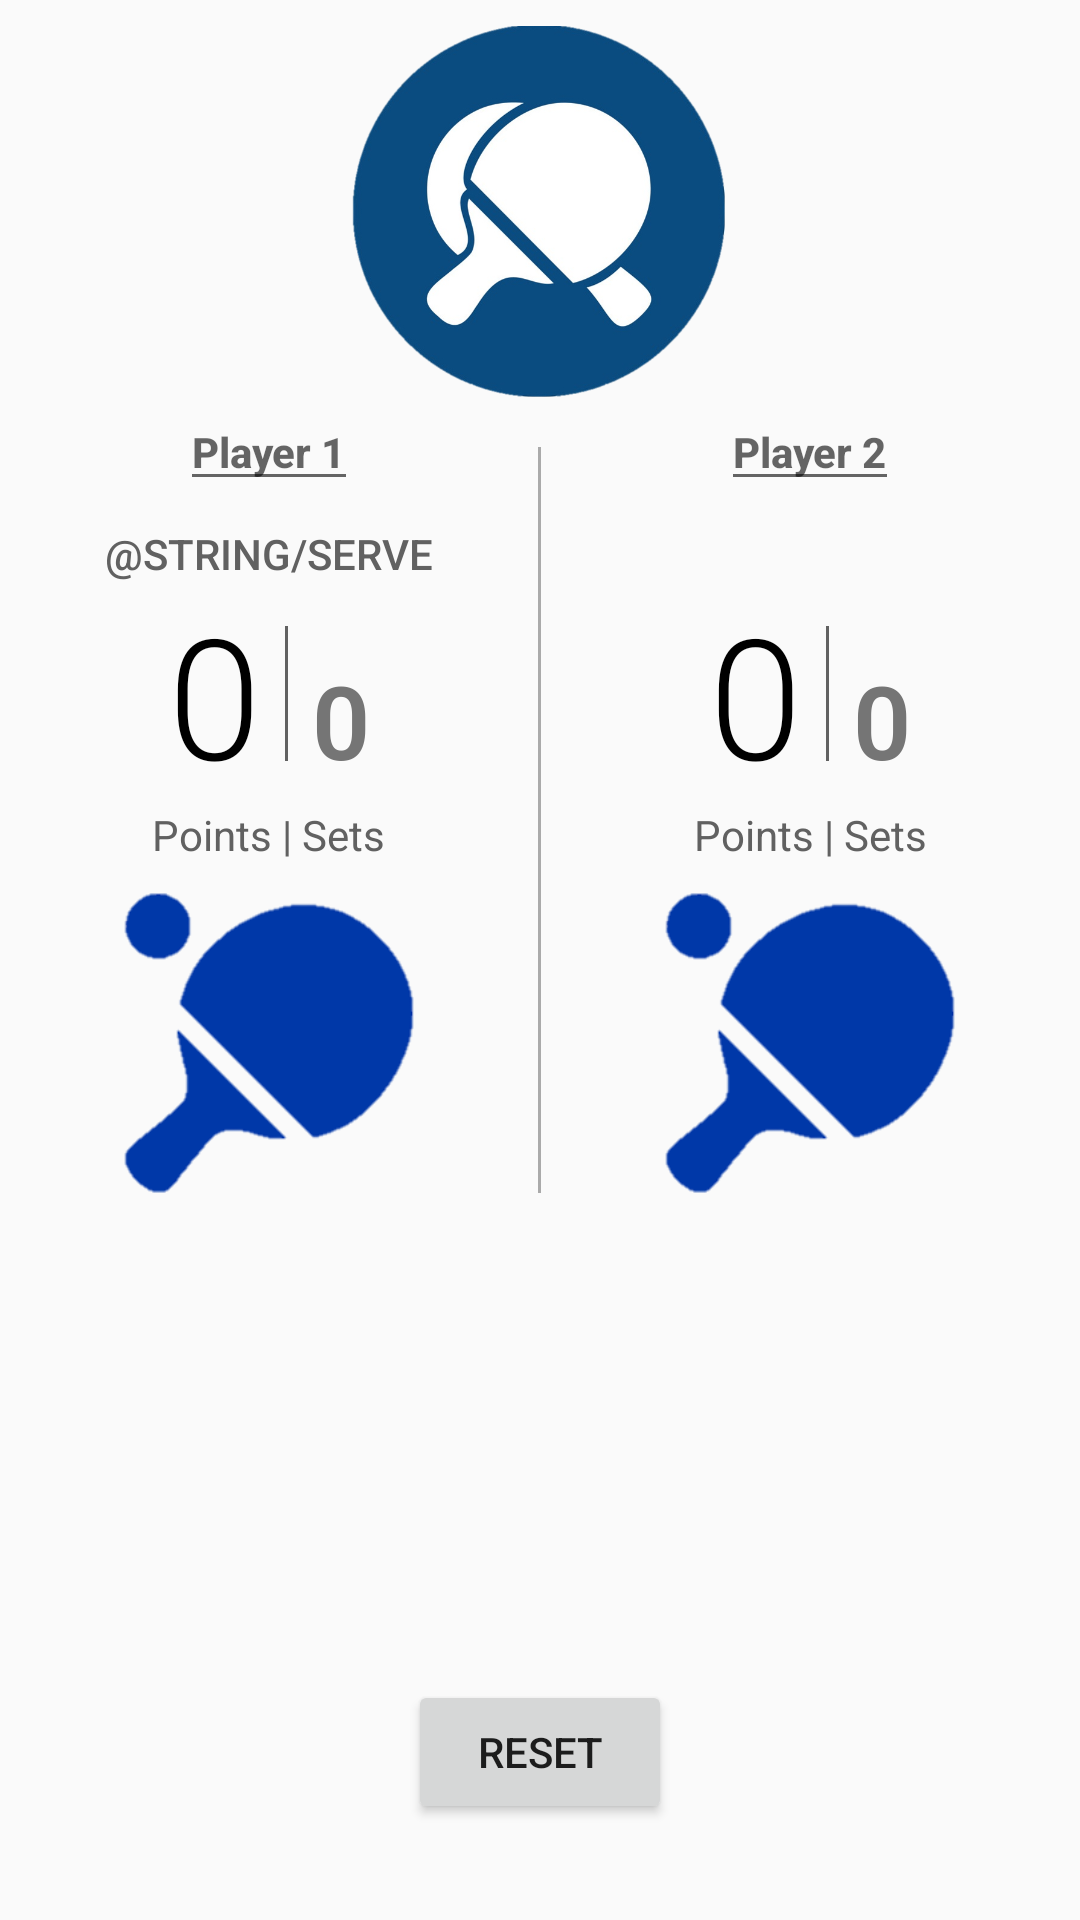

Where to tap for icons on this 1080px×1920px app screen, as (x=x, y=y):
paddle: (x=269, y=1043), (x=810, y=1043)
